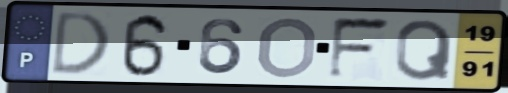6: (121, 11, 172, 78), (198, 16, 246, 76)
D: (48, 9, 114, 78)
F: (325, 16, 395, 83)
O: (254, 14, 320, 80)
Q: (393, 18, 456, 83)
